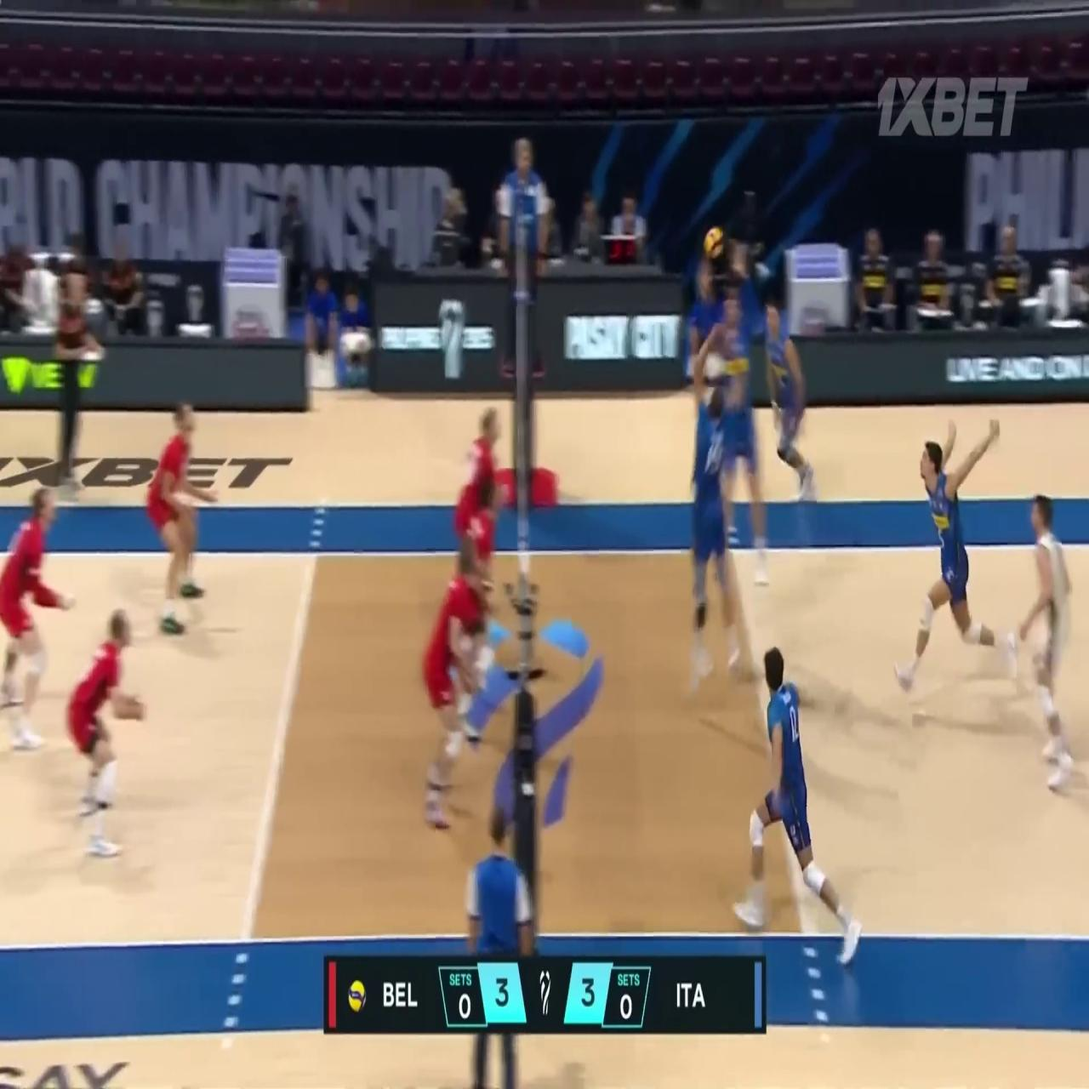ball: (704, 227, 723, 261)
